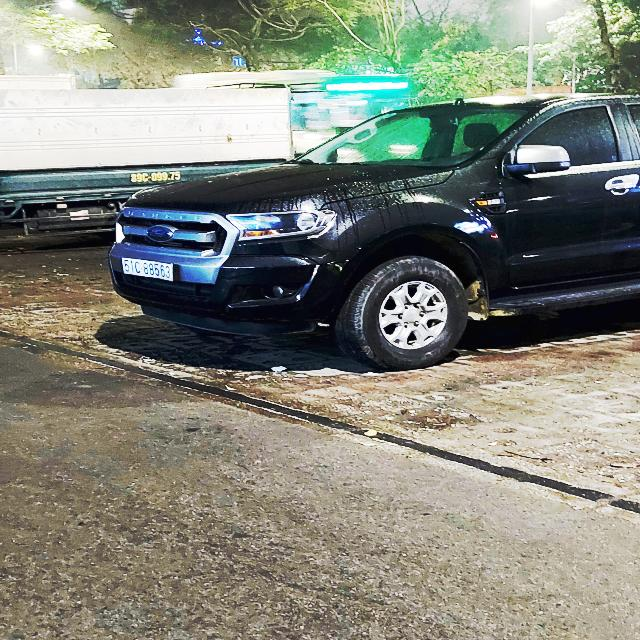license_plate: (121, 257, 174, 282)
